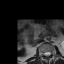CCS_normal: (46, 50, 48, 58)
LFS_normal: (50, 49, 52, 57)
LLS_normal: (48, 50, 50, 57)
RFS_normal: (42, 50, 44, 56)
RLS_normal: (44, 50, 46, 56)
